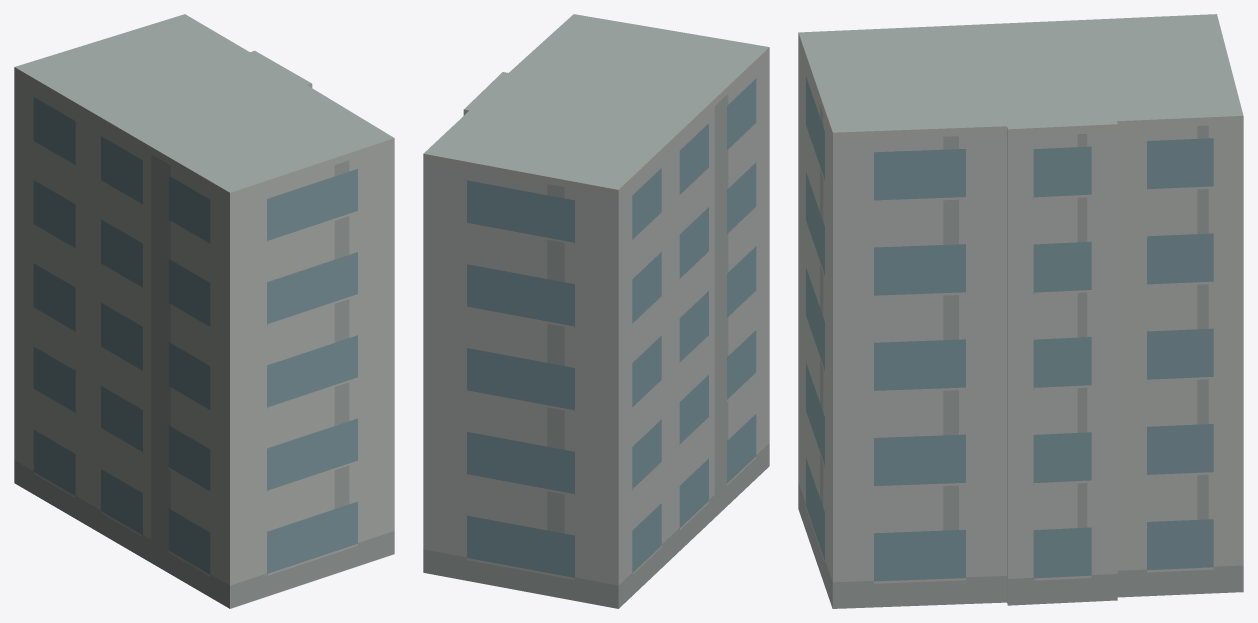
The model's file is survey-upis-33028618.glb.
3 views of the same model, side by side, from view 1: azimuth 30°, elevation 25°; view 2: azimuth 150°, elevation 25°; view 3: azimuth 270°, elevation 25° (orthographic). The views are drawn at different scales.
Visible parts, largest first — view 1: survey-upis-33028618.tmp; view 2: survey-upis-33028618.tmp; view 3: survey-upis-33028618.tmp.
Boxes of the visible parts, box(x1,y1,x2,y2) form: survey-upis-33028618.tmp: box(14, 14, 394, 608); survey-upis-33028618.tmp: box(423, 14, 769, 608); survey-upis-33028618.tmp: box(798, 14, 1243, 608).
Size of the model in its own units: 7.54 by 14.1 by 11.96.
